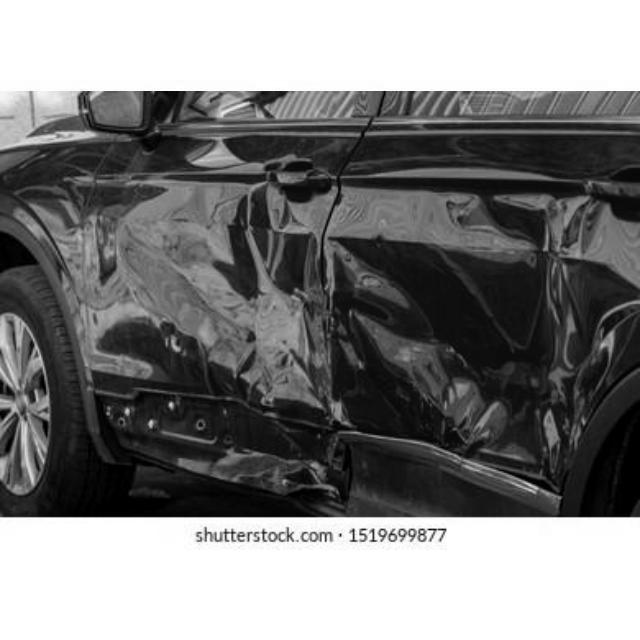doorouter-dent: (345, 122, 638, 438), (72, 121, 344, 429)
